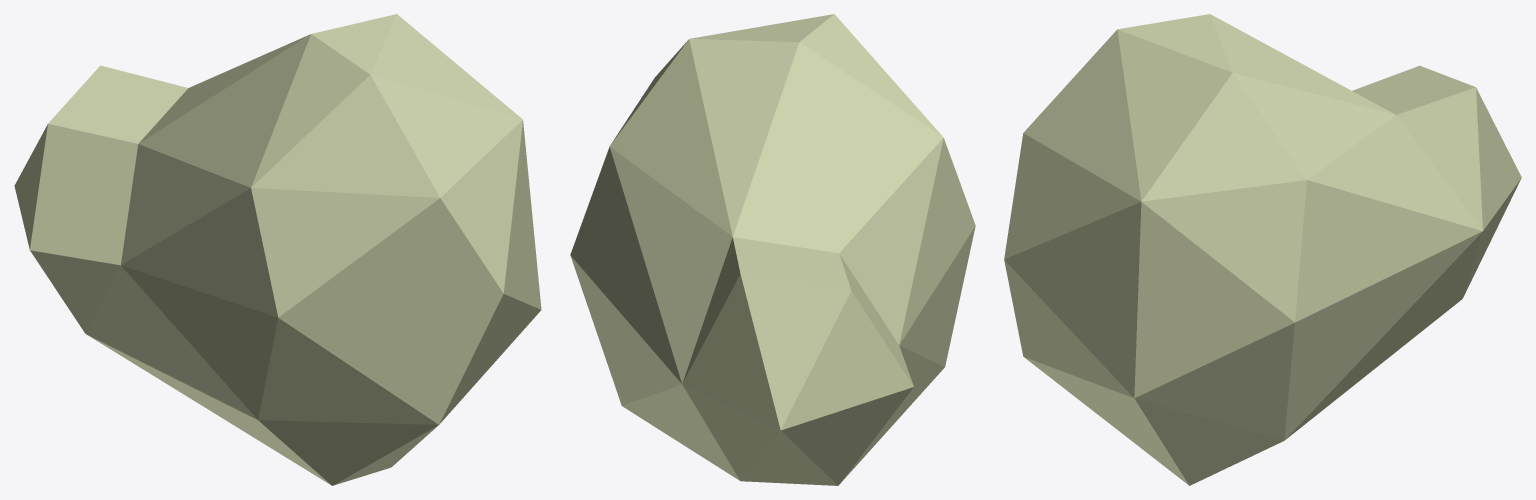
The model's file is 01_01Rock_Brown.fbx.
3 renders of one model, left to right at view 1: azimuth 30°, elevation 25°; view 2: azimuth 150°, elevation 25°; view 3: azimuth 270°, elevation 25°, orthographic. The views are drawn at different scales.
Visible parts, largest first — view 1: Icosphere.022; view 2: Icosphere.022; view 3: Icosphere.022.
Part boxes in pixels (x1,y1,x2,y2): Icosphere.022: (14,14,541,485); Icosphere.022: (570,14,975,485); Icosphere.022: (1004,14,1521,485).
Size of the model in its own units: 116 by 126 by 135.
